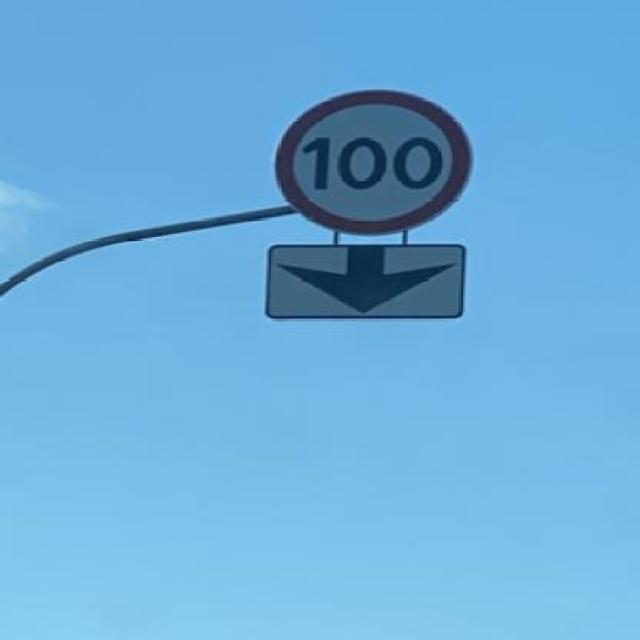forb_speed_over_100: (270, 91, 472, 232)
